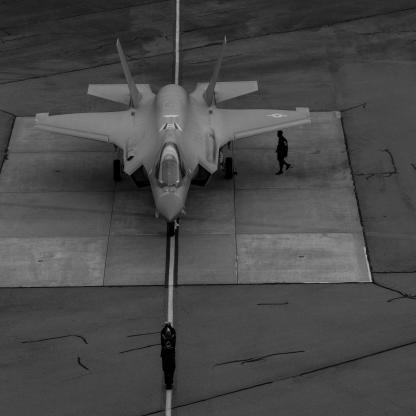F35: (35, 37, 312, 237)
